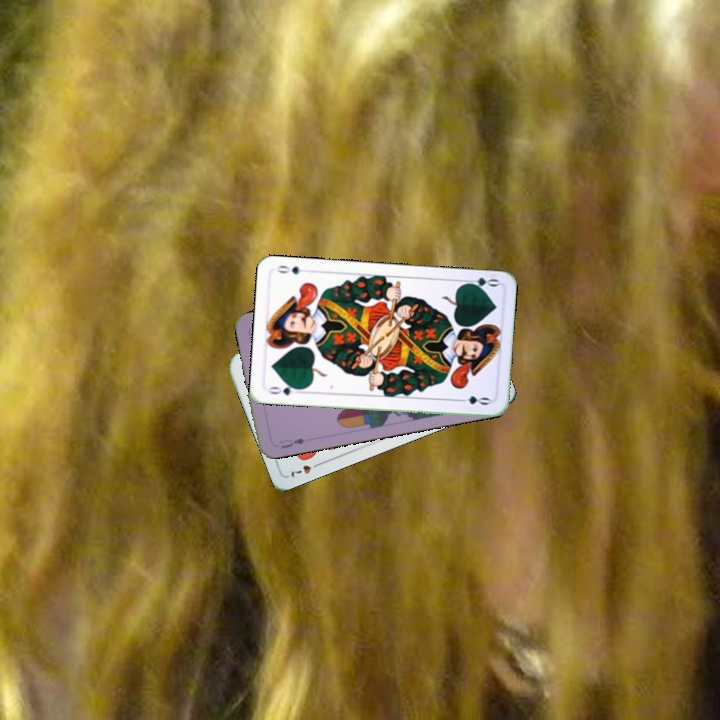EU: (275, 434, 308, 451)
GO: (460, 273, 501, 292), (264, 381, 305, 398)
H7: (287, 458, 324, 480)
